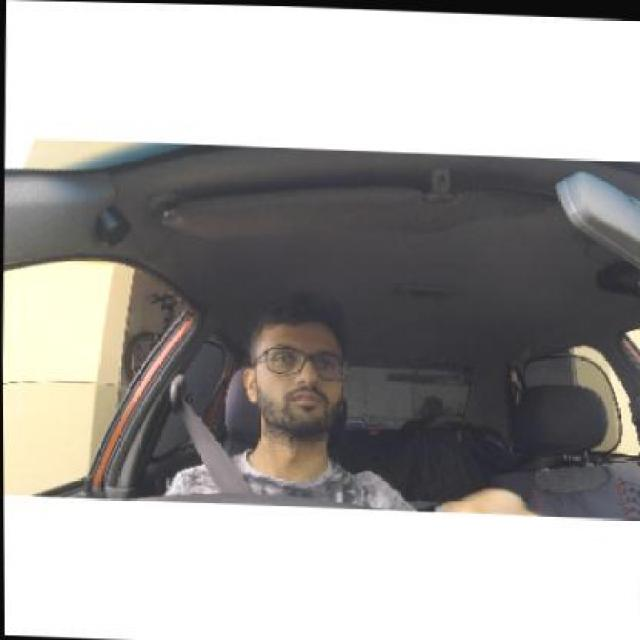person: (236, 299, 355, 454)
